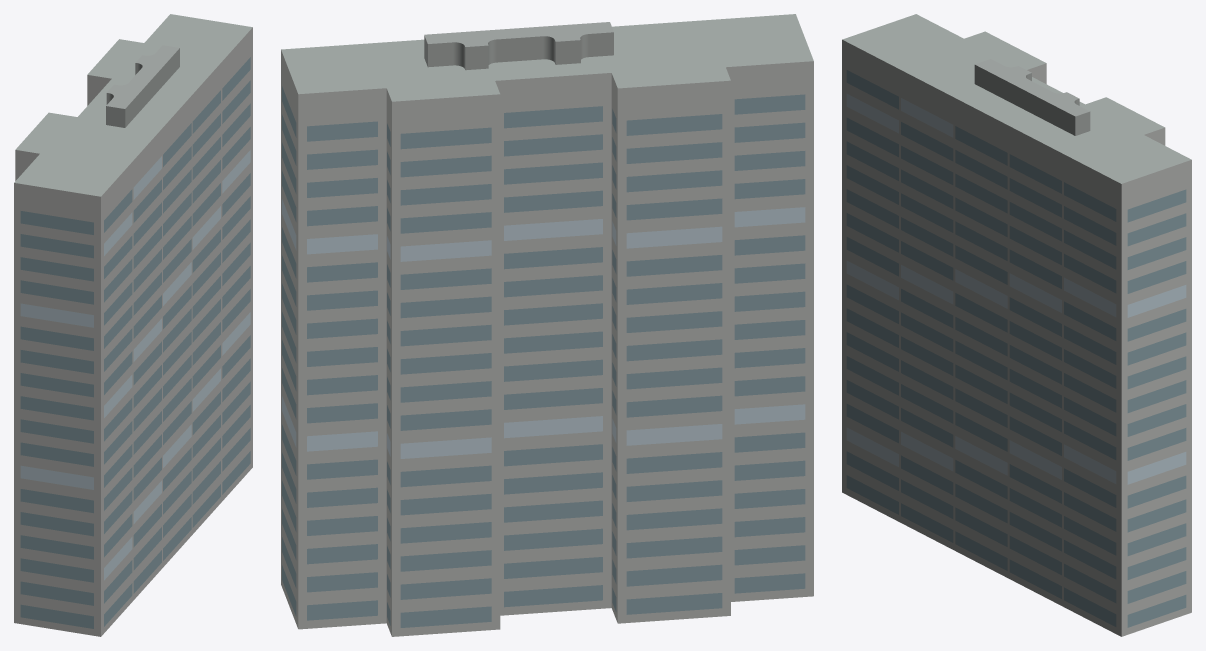
The model's file is fallback-gaepo-raemian-forest-116.glb.
The picture shows the model from 3 angles, left to right: view 1: azimuth 30°, elevation 25°; view 2: azimuth 150°, elevation 25°; view 3: azimuth 270°, elevation 25°; orthographic projection. The views are drawn at different scales.
Parts seen in each view (by area): view 1: fallback-gaepo-raemian-forest-116; view 2: fallback-gaepo-raemian-forest-116; view 3: fallback-gaepo-raemian-forest-116.
Boxes of the visible parts, x1,y1,x2,y2 form: fallback-gaepo-raemian-forest-116: (14,14,252,636); fallback-gaepo-raemian-forest-116: (281,14,813,636); fallback-gaepo-raemian-forest-116: (842,14,1191,636).
Size of the model in its own units: 44.75 by 58 by 38.91.
